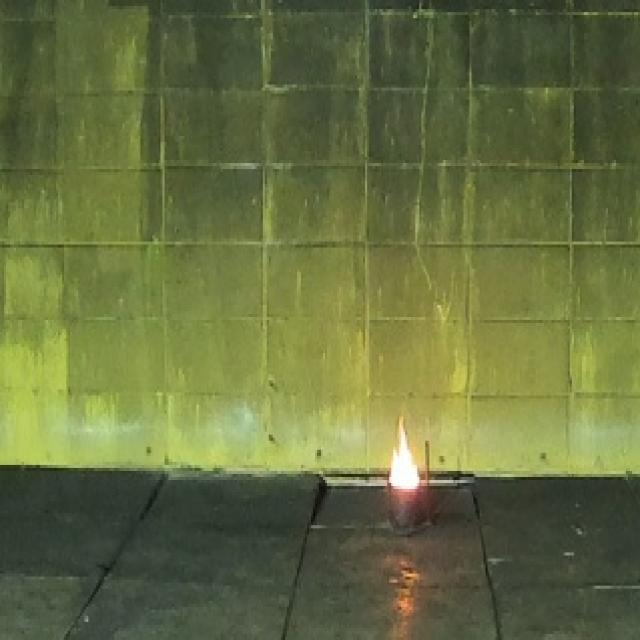Fire: (390, 413, 420, 491)
